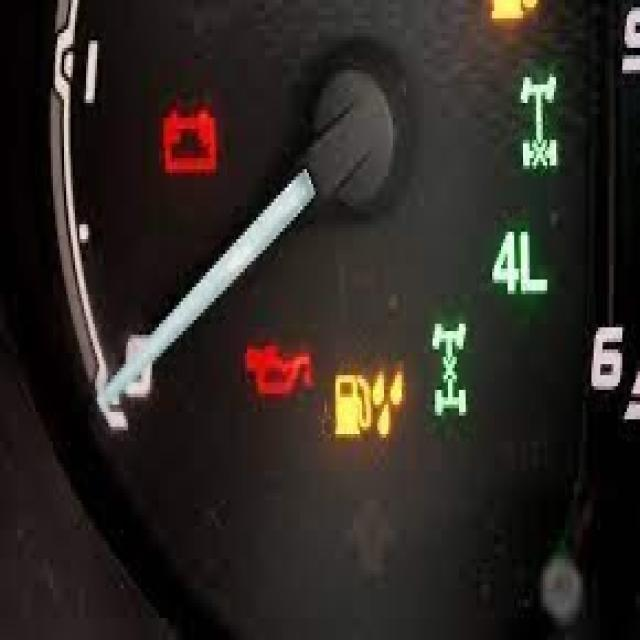kontrolka: (234, 313, 329, 423), (150, 96, 234, 195), (332, 364, 372, 456)
